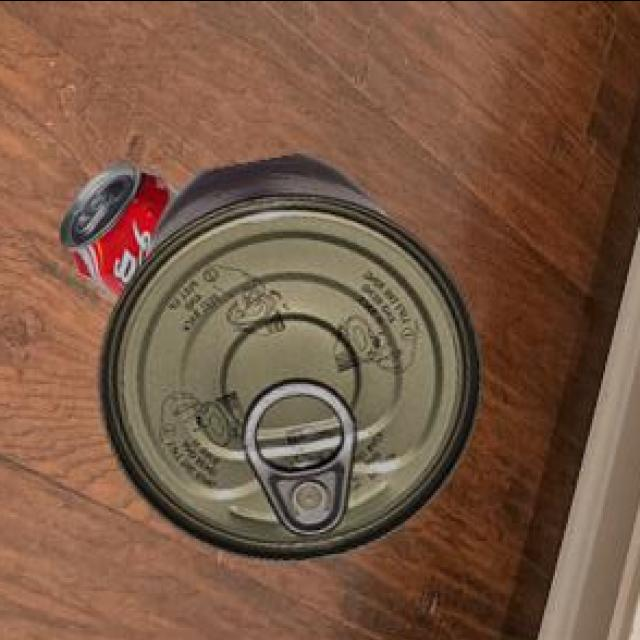logam: (103, 156, 484, 565), (64, 167, 182, 304)
